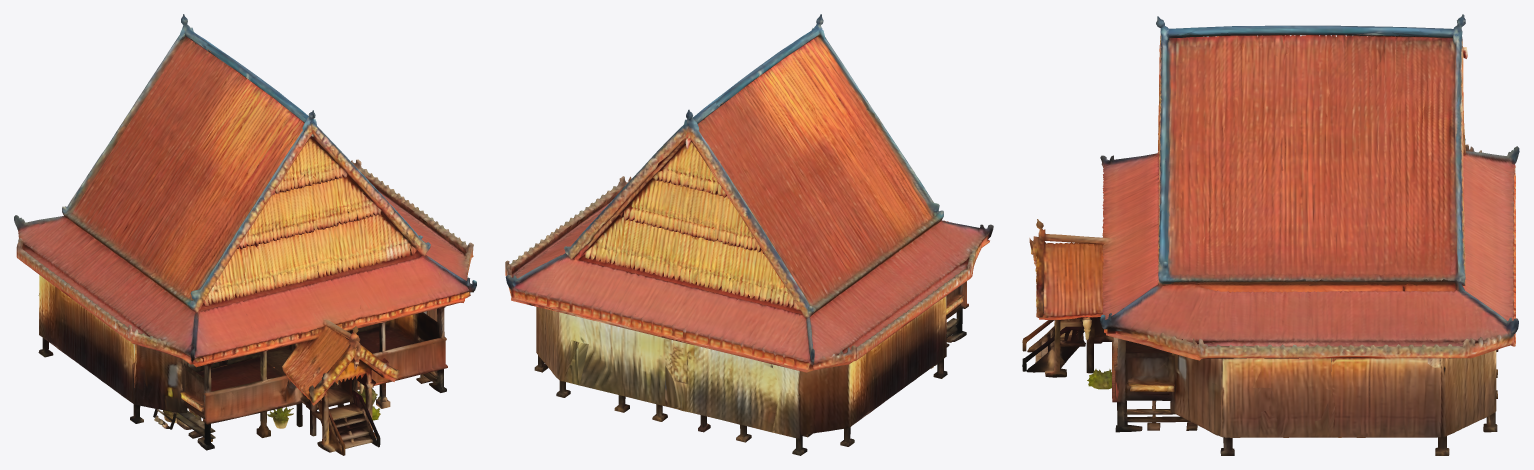
Rendered from mekongga.glb.
The picture shows the model from 3 angles, left to right: view 1: azimuth 30°, elevation 25°; view 2: azimuth 150°, elevation 25°; view 3: azimuth 270°, elevation 25°; orthographic projection. The views are drawn at different scales.
Visible parts, largest first — view 1: Rumah adat mekongga; view 2: Rumah adat mekongga; view 3: Rumah adat mekongga.
Boxes of the visible parts, x1=… form: Rumah adat mekongga: x1=14, y1=14, x2=476, y2=455; Rumah adat mekongga: x1=505, y1=14, x2=993, y2=455; Rumah adat mekongga: x1=1022, y1=14, x2=1519, y2=455.
Size of the model in its own units: 1.79 by 1.48 by 1.9.
1 material, 1 textured.
